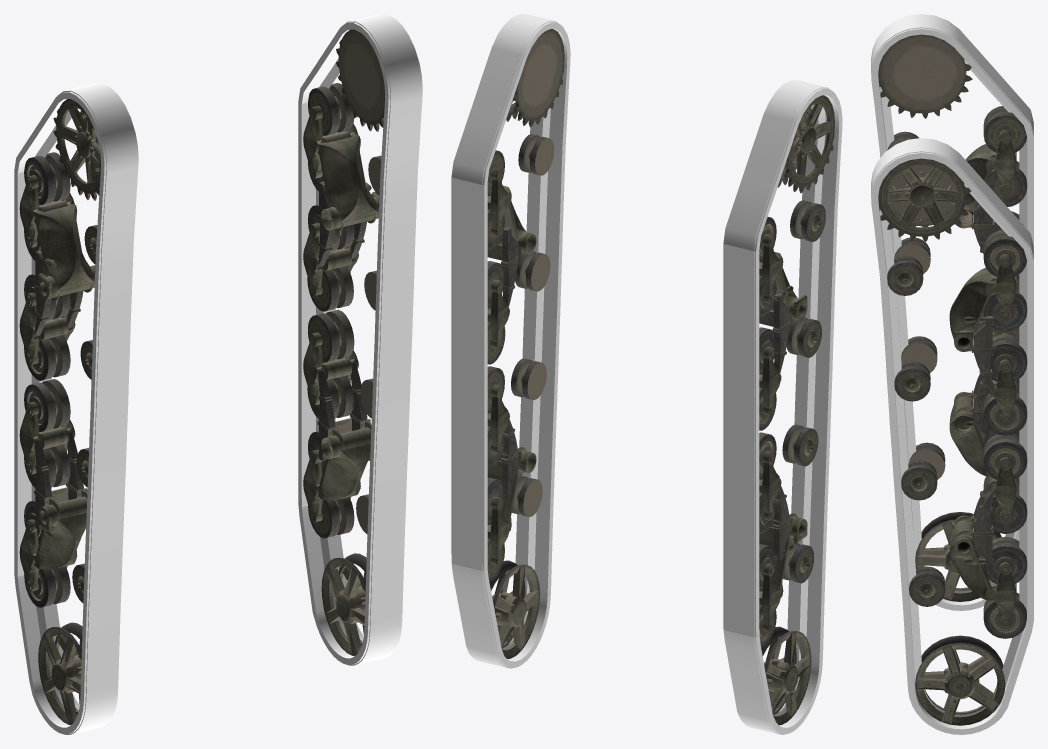
The model's file is Chassis.glb.
The picture shows the model from 3 angles, left to right: view 1: azimuth 30°, elevation 25°; view 2: azimuth 150°, elevation 25°; view 3: azimuth 270°, elevation 25°; orthographic projection. The views are drawn at different scales.
Parts seen in each view (by area): view 1: set_0_group_0, set_1_group_0, set_3_group_0, set_2_group_0; view 2: set_0_group_0, set_1_group_0, set_3_group_0, set_2_group_0; view 3: set_3_group_0, set_2_group_0, set_1_group_0, set_0_group_0.
Part boxes in pixels (x1,y1,x2,y2): set_0_group_0: (14, 83, 138, 734); set_1_group_0: (298, 14, 422, 665); set_3_group_0: (303, 29, 384, 656); set_2_group_0: (19, 99, 100, 725); set_0_group_0: (723, 80, 842, 734); set_1_group_0: (451, 14, 570, 668); set_3_group_0: (487, 29, 564, 658); set_2_group_0: (759, 95, 834, 725); set_3_group_0: (878, 158, 1027, 725); set_2_group_0: (878, 24, 1027, 601); set_1_group_0: (871, 138, 1033, 734); set_0_group_0: (871, 14, 1033, 610).
Bounding box in the file's own units: 2.44 × 4.51 × 1.14.
4 materials, 2 textured.
